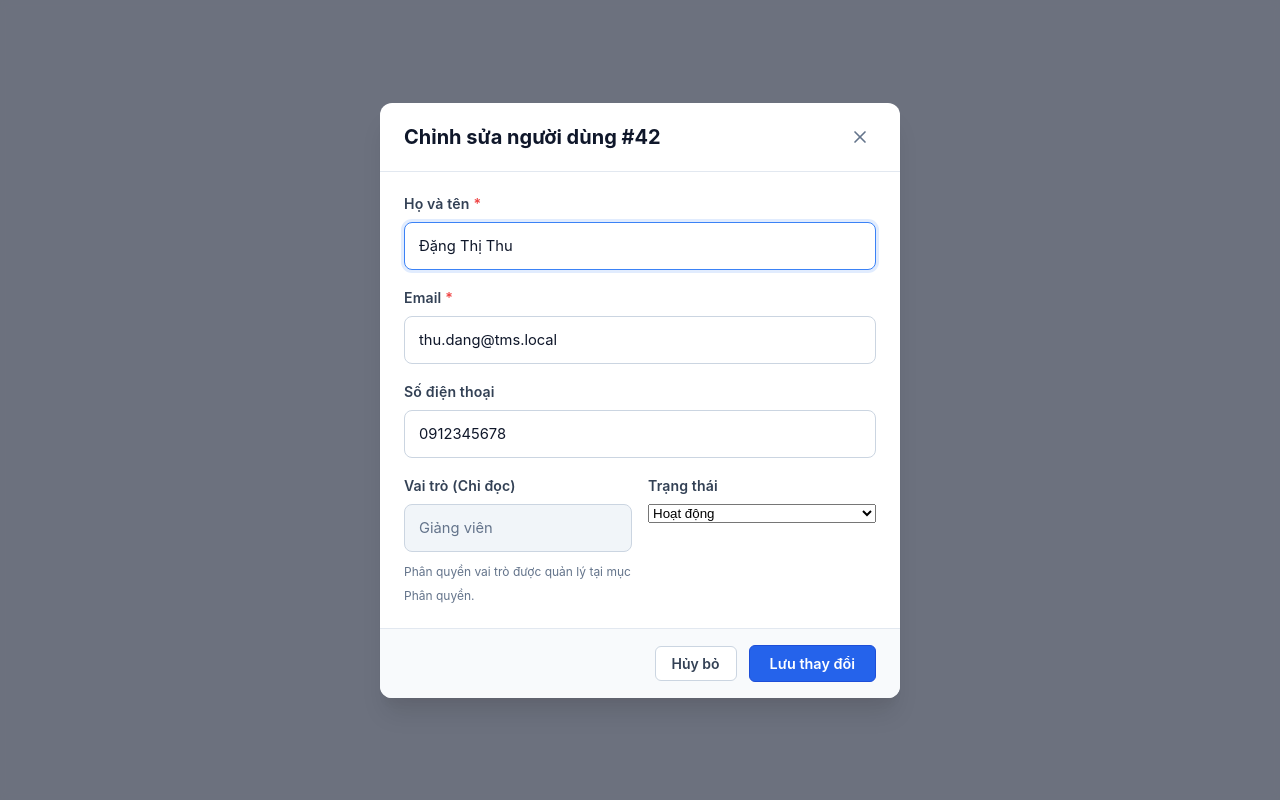
Test: SCRUM-93: Edit User Modal Component › 8. xử lý lỗi 404 USER_NOT_FOUND và hiển thị banner lỗi
This screenshot has width=1280, height=800.
Click the button with test id "btn-submit-edit": (812, 663) [749, 644, 876, 682]
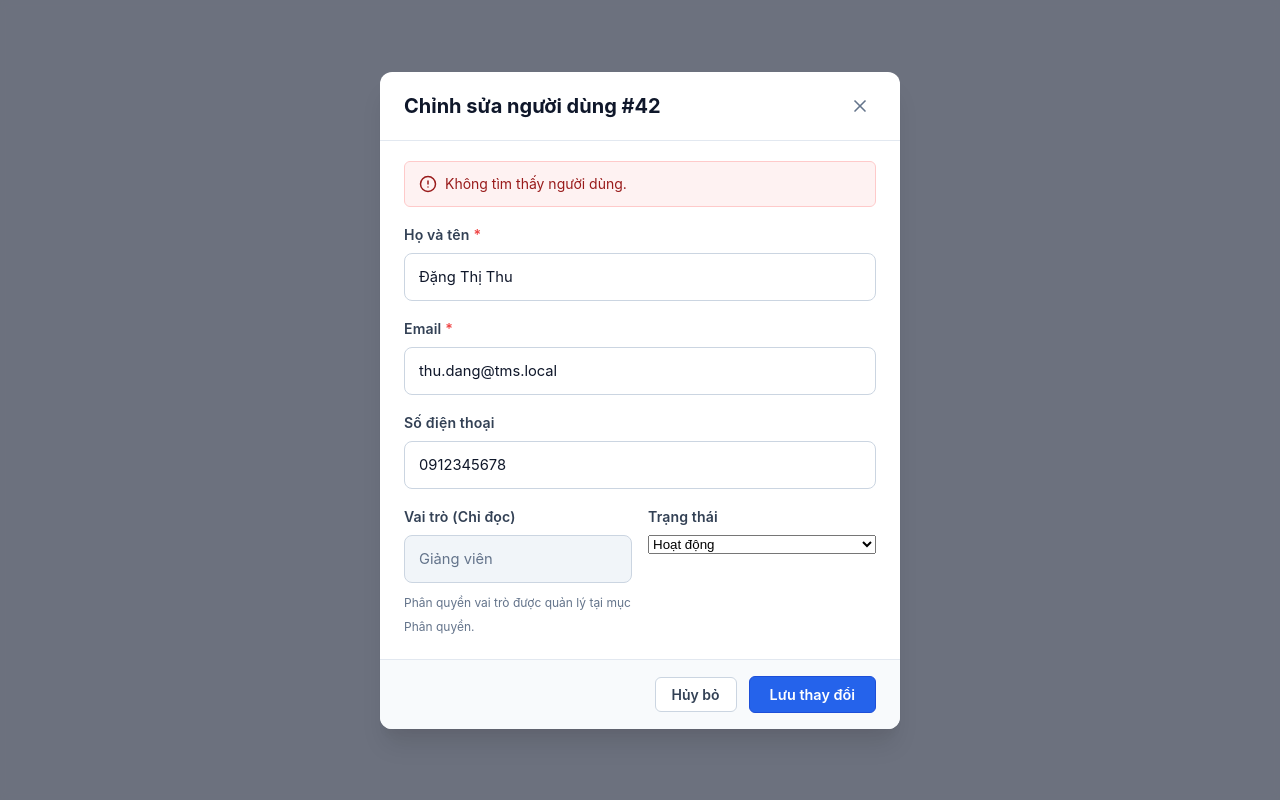
Check: the message "Không tìm thấy người dùng." is shown, box [404, 160, 876, 206]
Check: the text "Không tìm thấy người dùng." is shown, box [445, 172, 627, 196]
